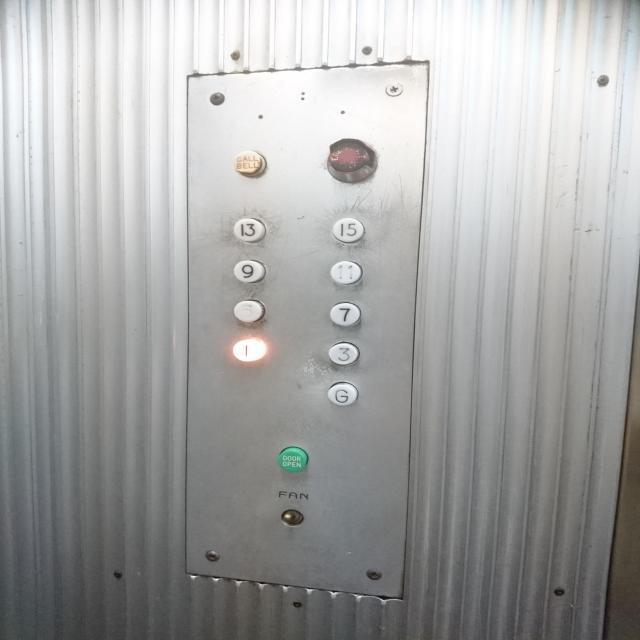1: (230, 335, 269, 365)
11: (326, 257, 364, 287)
13: (230, 215, 269, 245)
15: (328, 215, 367, 245)
3: (324, 338, 364, 369)
5: (228, 295, 270, 327)
7: (326, 298, 366, 328)
9: (231, 256, 266, 286)
G: (323, 378, 362, 409)
switch: (277, 504, 306, 530)
text: (272, 444, 312, 474)
text_blur: (322, 135, 379, 185)
text_call bell: (230, 146, 271, 179)
